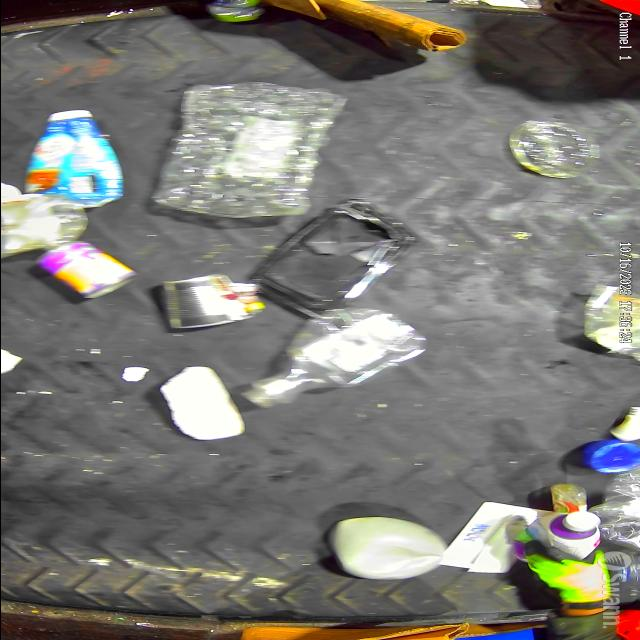can: (34, 244, 140, 299), (158, 272, 252, 330)
plastic_bottle: (166, 88, 324, 215), (240, 315, 423, 413)
